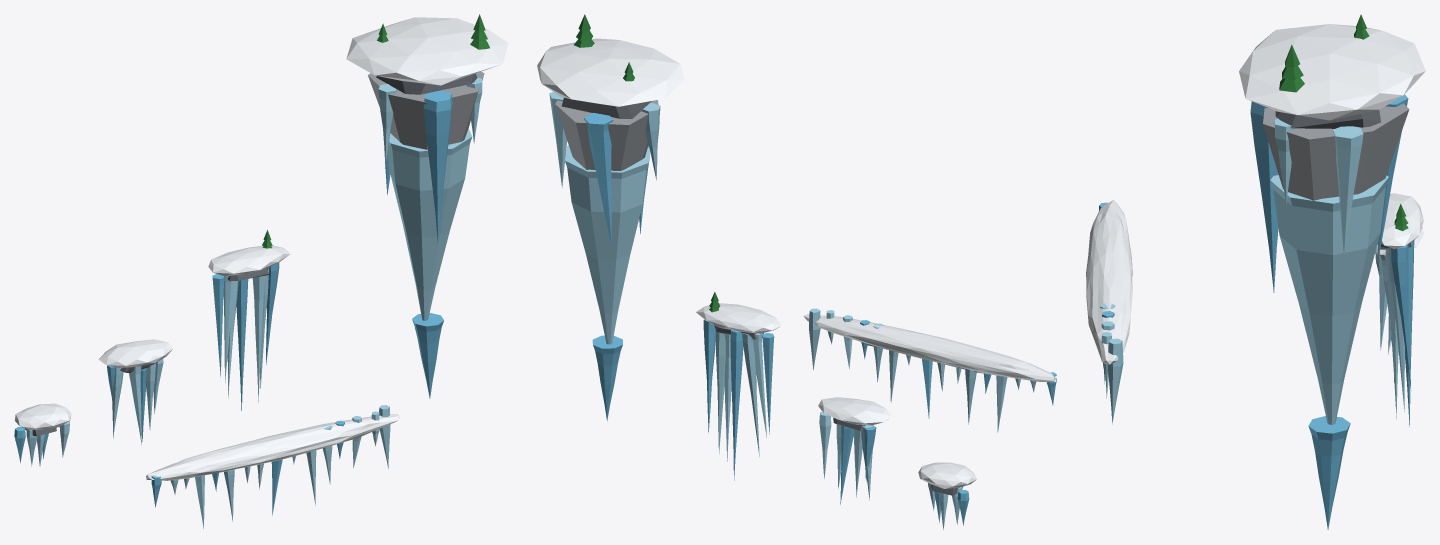
The model's file is low-poly-icicle-set.glb.
3 renders of one model, left to right at view 1: azimuth 30°, elevation 25°; view 2: azimuth 150°, elevation 25°; view 3: azimuth 270°, elevation 25°, orthographic. The views are drawn at different scales.
Visible parts, largest first — view 1: FrozenStalactite, IcicleFringe, IcicleCluster_Long, IcicleCluster_Medium, IcicleCluster_Short, Tip; view 2: FrozenStalactite, IcicleFringe, IcicleCluster_Long, IcicleCluster_Medium, IcicleCluster_Short, Tip; view 3: FrozenStalactite, IcicleFringe, IcicleCluster_Long, Tip, IcicleCluster_Medium.
Boxes of the visible parts, x1,y1,x2,y2 form: FrozenStalactite: (346,14,508,320); IcicleFringe: (146,405,399,528); IcicleCluster_Long: (208,230,290,410); IcicleCluster_Medium: (98,339,172,444); IcicleCluster_Short: (14,403,71,466); Tip: (412,313,443,398); FrozenStalactite: (537,14,684,344); IcicleFringe: (803,308,1057,432); IcicleCluster_Long: (696,292,781,480); IcicleCluster_Medium: (818,397,891,504); IcicleCluster_Short: (918,462,976,530); Tip: (592,335,622,421); FrozenStalactite: (1239,14,1425,424); IcicleFringe: (1086,200,1132,424); IcicleCluster_Long: (1380,193,1423,426); Tip: (1308,416,1350,529); IcicleCluster_Medium: (1375,229,1424,350).
Size of the model in its own units: 22.06 by 17.88 by 10.8.
